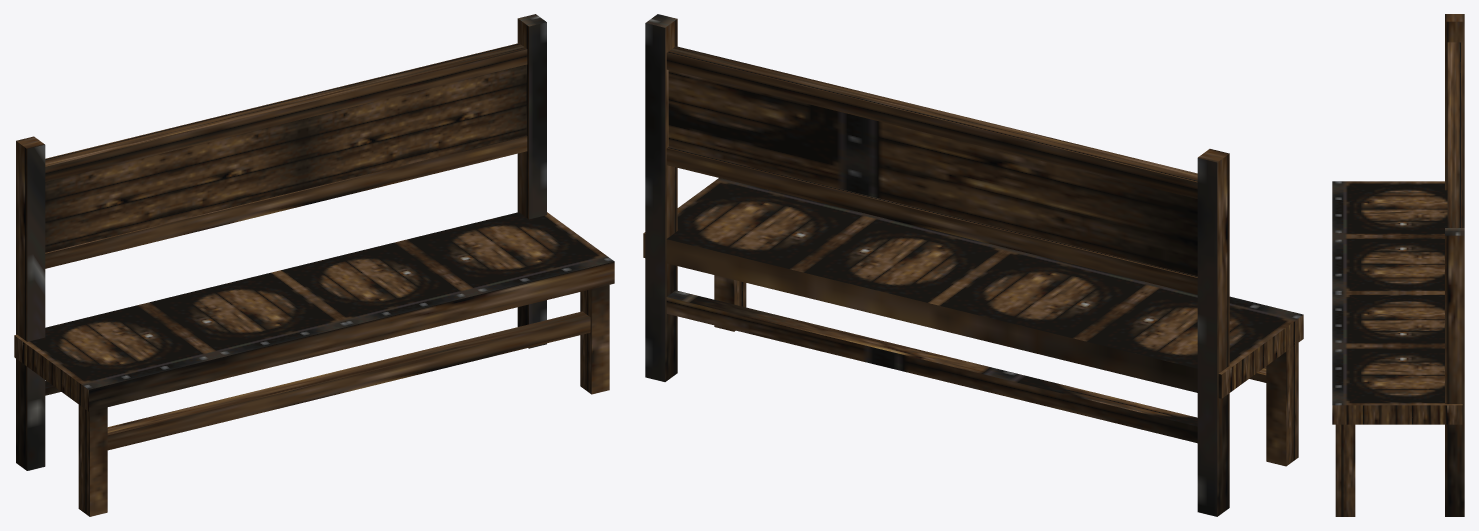
3 renders of one model, left to right at view 1: azimuth 30°, elevation 25°; view 2: azimuth 150°, elevation 25°; view 3: azimuth 270°, elevation 25°, orthographic. The views are drawn at different scales.
Visible parts, largest first — view 1: a26; view 2: a26; view 3: a26.
Part boxes in pixels (x1=…): a26: x1=14, y1=14, x2=614, y2=516; a26: x1=643, y1=14, x2=1303, y2=516; a26: x1=1332, y1=14, x2=1464, y2=516.
Size of the model in its own units: 512 by 300 by 128.
